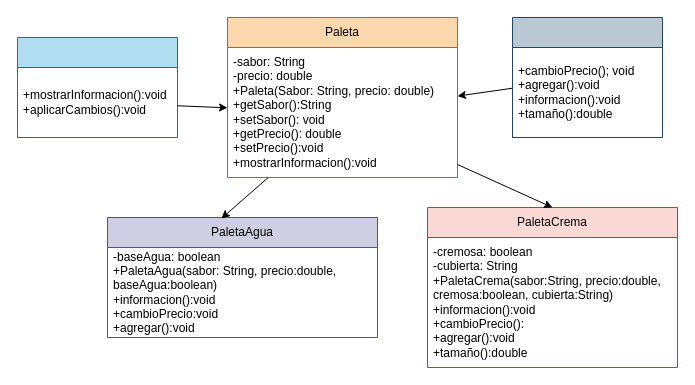
Image size: 695x385. Some labels were removed from this diagram. The shapes that lost their labels are listed below. From the top down, each one's box as (x1, y1, x2, y2) in pixels, then its label:
(16, 36, 178, 138): paletasGenericas
(512, 16, 662, 138): Interfaz cambiosPaleta
